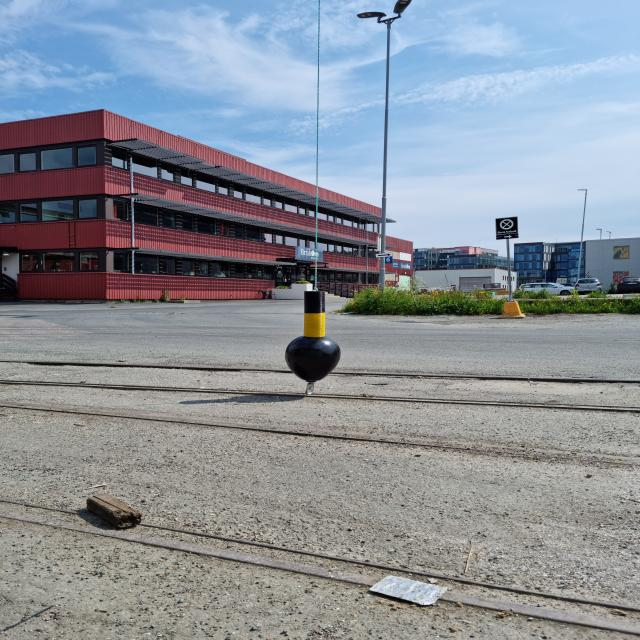east: (285, 292, 342, 383)
